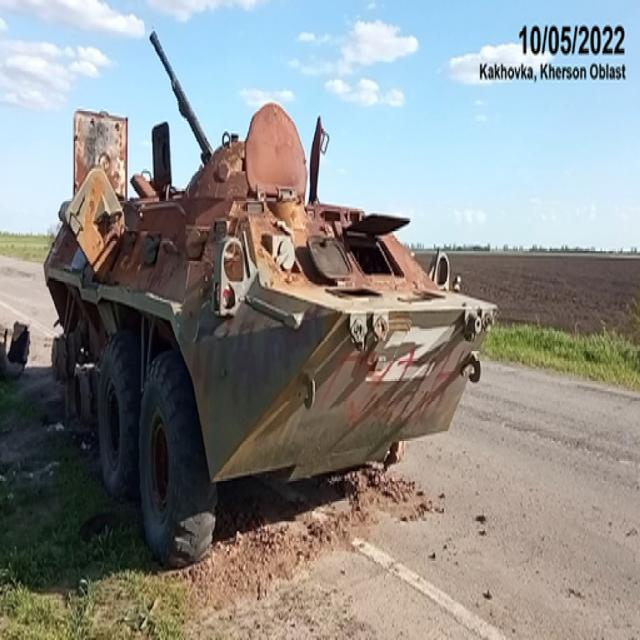APC-IFV: (39, 24, 495, 574)
